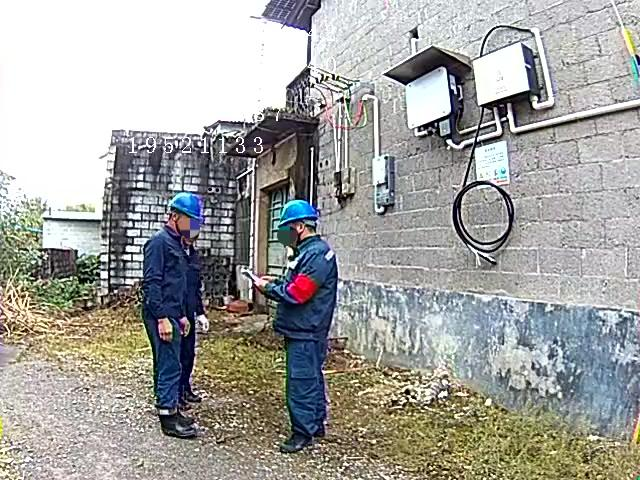halt: (281, 202, 323, 246), (170, 194, 208, 241)
inear: (292, 222, 310, 244), (170, 213, 185, 232)
